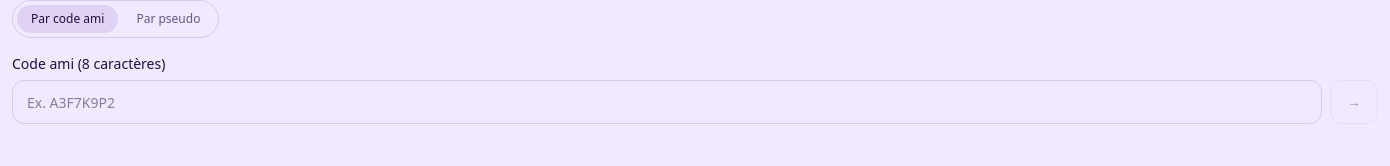
Test: AddFriendForm — ajout par code ou pseudo exact, avec aperçu avant envoi (LOT F1) › affiche un message « aucun compte » si la recherche ne trouve personne
This screenshot has width=1390, height=166.
Step 1. Type "ZZZZZZZZ" into the field labelled "Code ami (8 caractères)" → (667, 102), box [12, 80, 1322, 124]
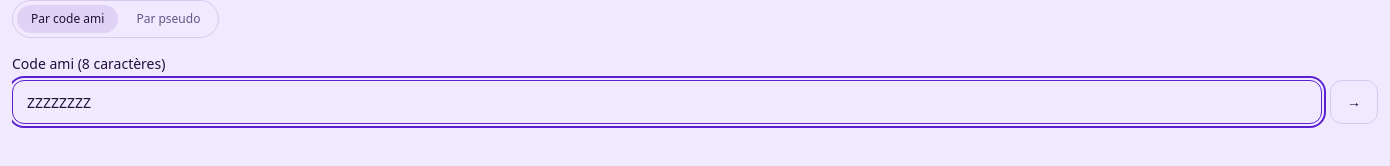
Step 2. Click the button "→" → (1354, 102), box [1330, 80, 1378, 124]
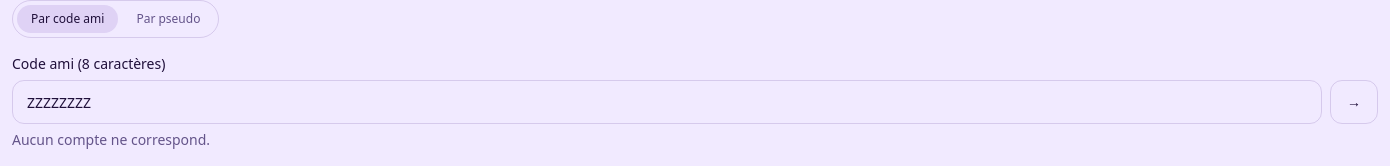
Expected: the text "Aucun compte ne correspond." is shown, [12, 130, 210, 149]
